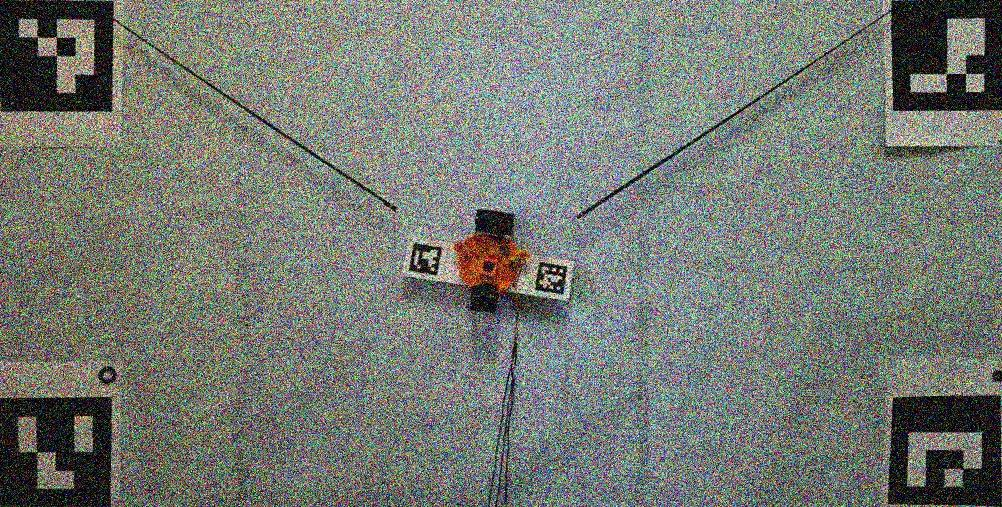robot: (455, 208, 528, 313)
